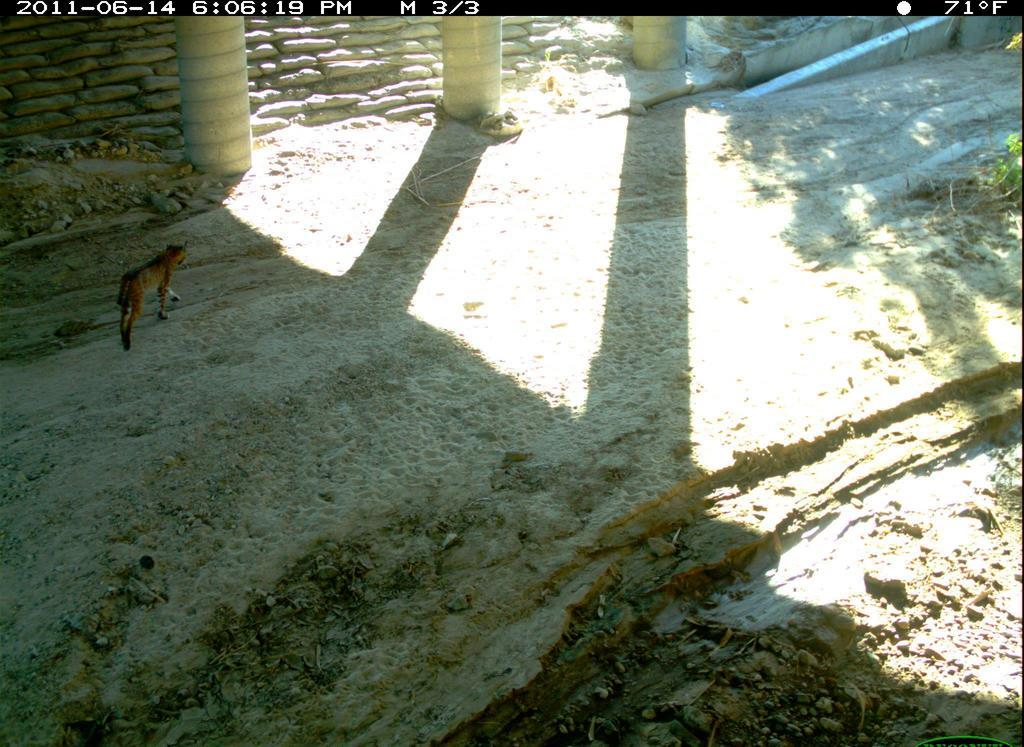bobcat: (108, 233, 196, 360)
